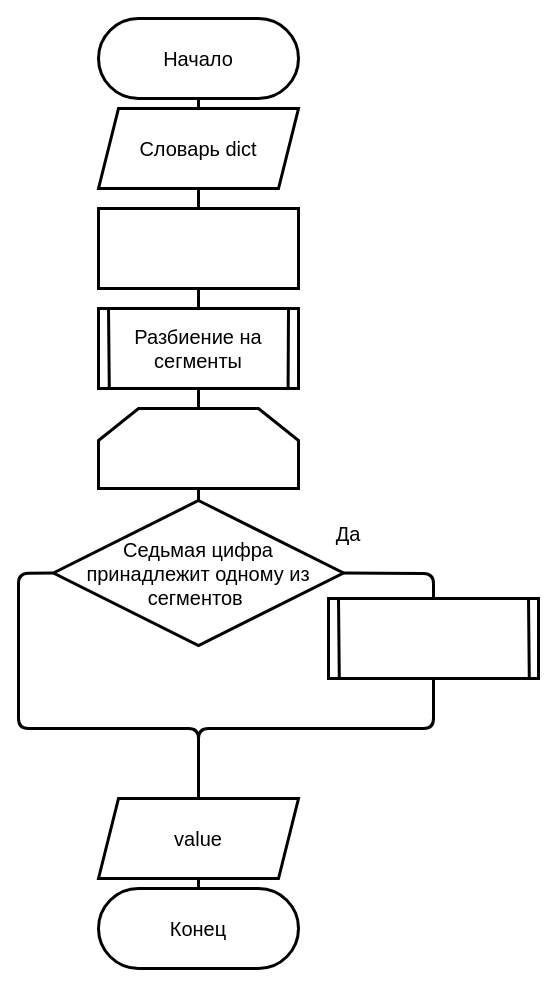
Image size: 557x987. Some labels were removed from this diagram. The box of each missing label's shape, as (x1, y1, x2, y2) in pixels:
value = "": (96, 206, 300, 290)
value = Бинарный поиск(seg, key): (326, 596, 540, 680)
Цикл i = 0; i < len(dict): (96, 406, 300, 490)
